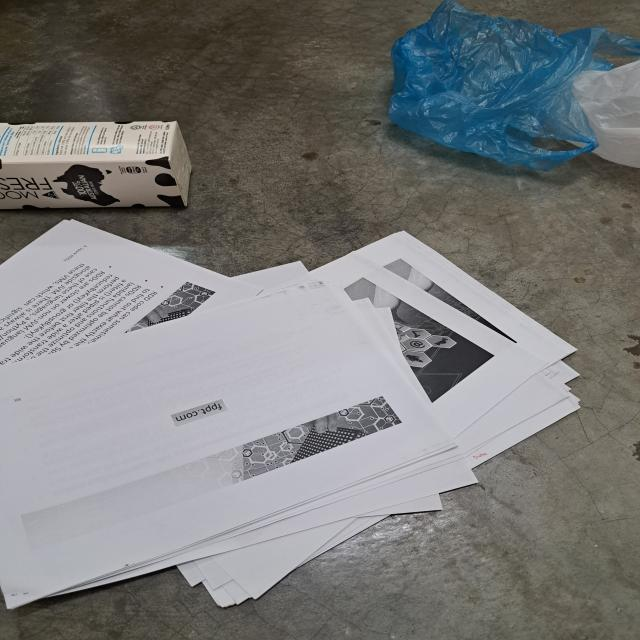drink carton: (0, 122, 195, 207)
paper: (0, 218, 585, 607)
plastic bag: (386, 0, 640, 171), (559, 60, 640, 171)
